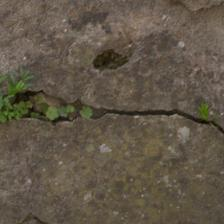Crack: (3, 42, 221, 95)
